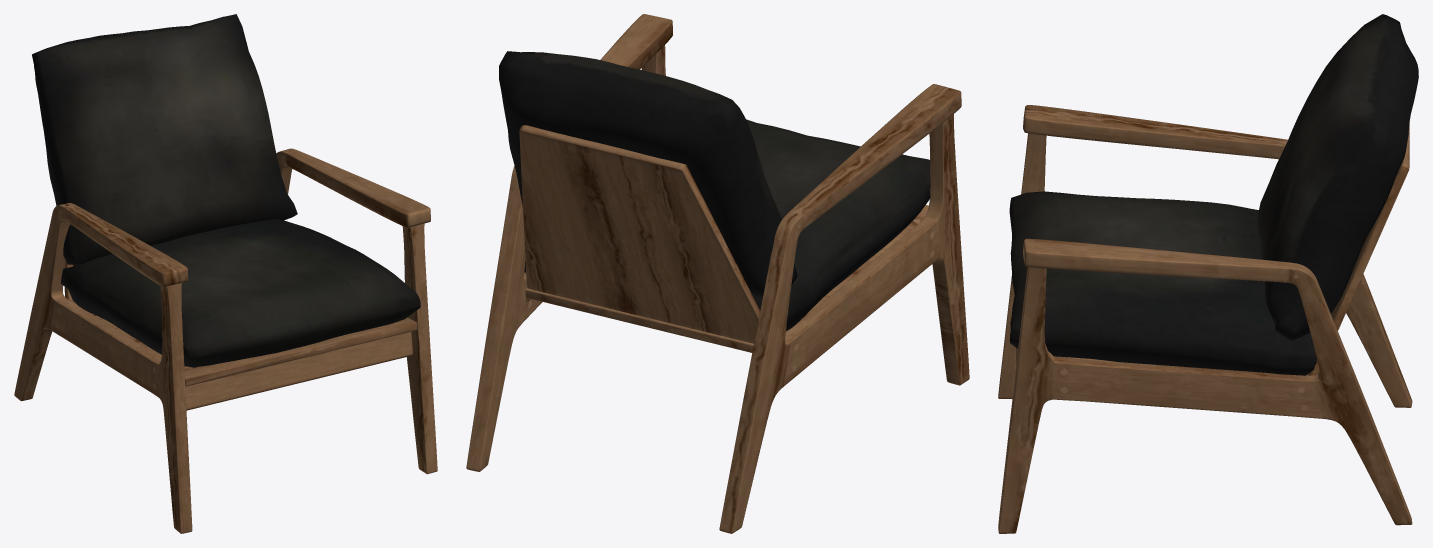
The model's file is modern_arm_chair_01.glb.
The picture shows the model from 3 angles, left to right: view 1: azimuth 30°, elevation 25°; view 2: azimuth 150°, elevation 25°; view 3: azimuth 270°, elevation 25°; orthographic projection. The views are drawn at different scales.
Parts seen in each view (by area): view 1: modern_arm_chair_01; view 2: modern_arm_chair_01; view 3: modern_arm_chair_01.
Boxes of the visible parts, x1,y1,x2,y2 form: modern_arm_chair_01: (14, 14, 437, 533); modern_arm_chair_01: (466, 14, 969, 533); modern_arm_chair_01: (998, 14, 1418, 533).
Size of the model in its own units: 0.8203 by 1.02 by 0.9866.
Materials: 2 (2 with a texture image).
